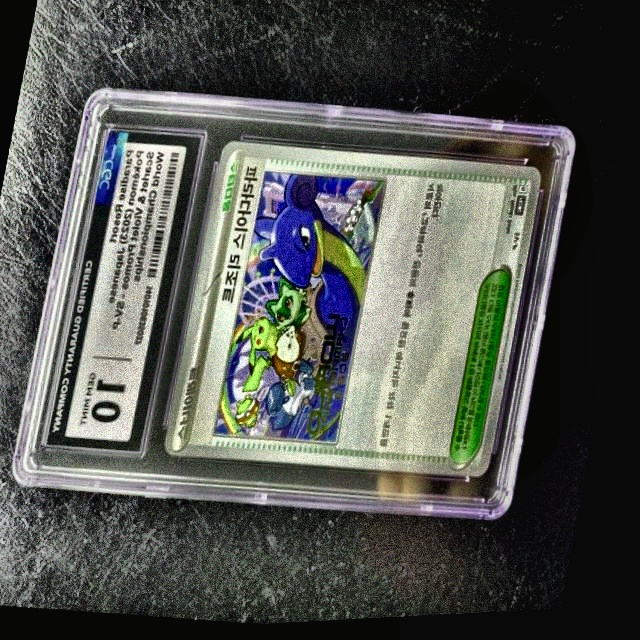card: (170, 142, 545, 483)
